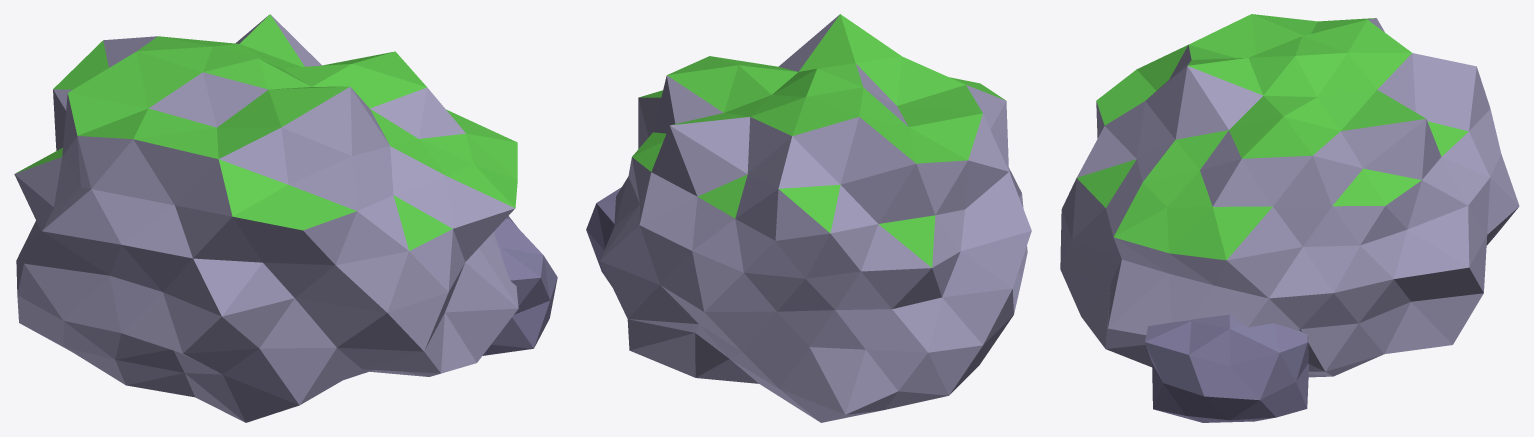
The model's file is rock_b.glb.
The picture shows the model from 3 angles, left to right: view 1: azimuth 30°, elevation 25°; view 2: azimuth 150°, elevation 25°; view 3: azimuth 270°, elevation 25°; orthographic projection. The views are drawn at different scales.
Visible parts, largest first — view 1: rock_b; view 2: rock_b; view 3: rock_b.
Part boxes in pixels (x1,y1,x2,y2): rock_b: [14, 14, 557, 422]; rock_b: [586, 14, 1031, 422]; rock_b: [1060, 14, 1519, 422].
Bounding box in the file's own units: 4.65 × 2.77 × 4.16.
